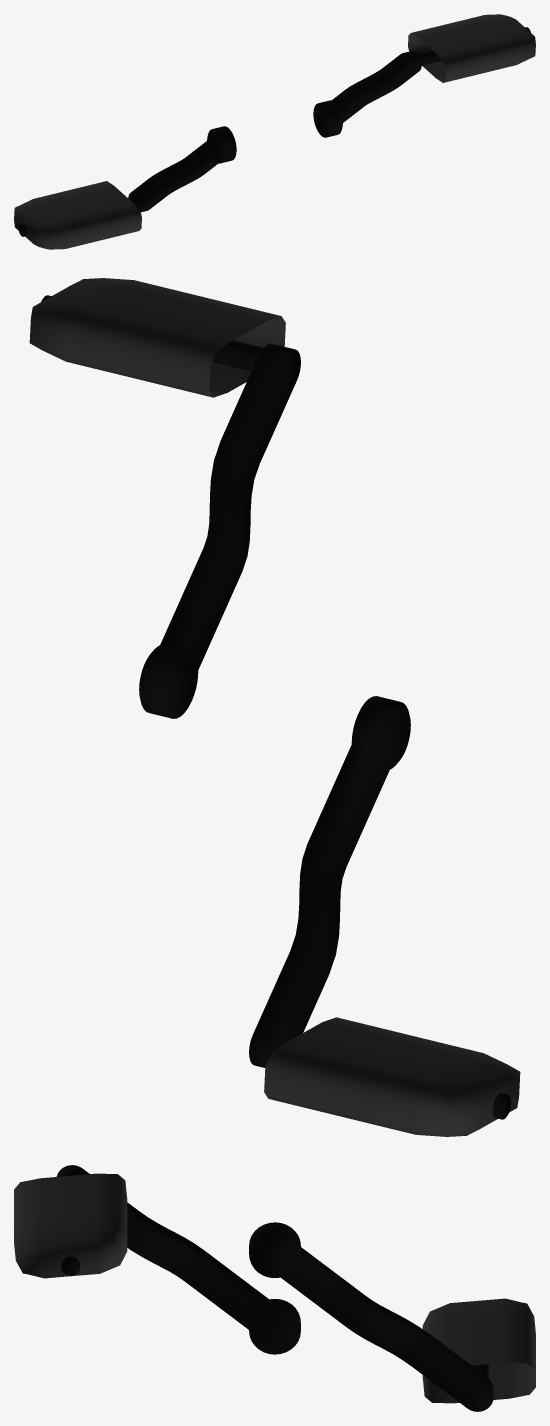
File: pedales.obj
3 views of the same model, one above another, from view 1: azimuth 30°, elevation 25°; view 2: azimuth 150°, elevation 25°; view 3: azimuth 270°, elevation 25° (orthographic). The views are drawn at different scales.
Visible parts, largest first — view 1: pedales; view 2: pedales; view 3: pedales.
Part boxes in pixels (x1,y1,x2,y2): pedales: (14, 14, 535, 249); pedales: (29, 278, 520, 1136); pedales: (14, 1165, 535, 1411).
Size of the model in its own units: 37.5 by 23.02 by 31.17.
1 material, 1 textured.
